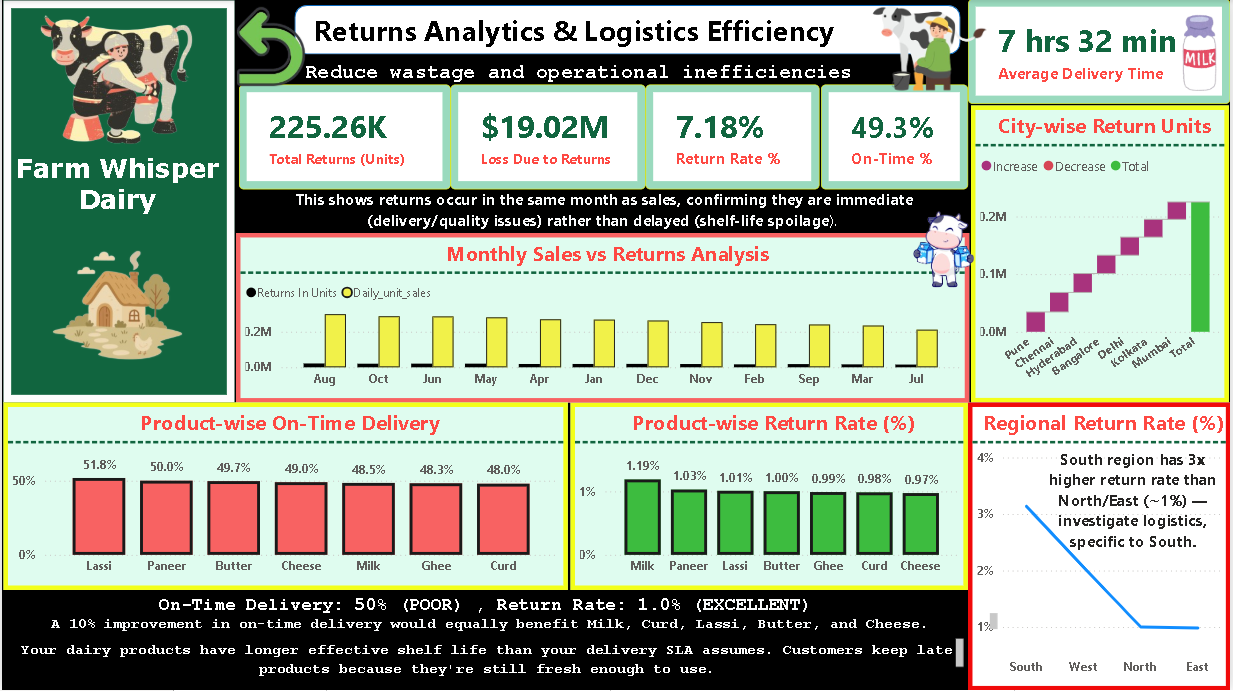

The dashboard page shown, as its layout file describes it:
{"tool":"powerbi","page":{"name":"Returns Analytics & Logistics Efficiency","canvas":[1280,720],"ordinal":3},"visuals":[{"type":"shape","box":[1.6,1.6,240.7,418.9],"z":0},{"type":"shape","box":[304.8,6.3,694,51.6],"z":1000},{"type":"textbox","box":[0,154.7,240.7,89.1],"z":2000},{"type":"image","box":[23.4,6.3,193.8,156.3],"z":3000},{"type":"textbox","box":[243.8,59.4,714.3,40.6],"z":4000},{"type":"cardVisual","fields":{"Data":["Sum(fact_sales.Return rate %)"]},"box":[670.5,89.1,181.3,109.4],"z":5000},{"type":"cardVisual","fields":{"Data":["fact_sales.Average Delivery Time"]},"box":[1006.6,0,273.5,109.4],"z":6000},{"type":"cardVisual","fields":{"Data":["Sum(fact_sales.Returns In Units)"]},"box":[247,89.1,220.4,109.4],"z":7000},{"type":"cardVisual","fields":{"Data":["fact_sales.Loss Due to Returns"]},"box":[467.3,89.1,203.2,109.4],"z":8000},{"type":"columnChart","title":"Product-wise Return Rate (%)","fields":{"Y":["Sum(fact_sales.Return rate %)"],"Category":["dim_product.product_name"]},"box":[592.4,420.4,414.2,195.4],"z":9000},{"type":"cardVisual","fields":{"Data":["fact_sales.On-Time %"]},"box":[853.4,89.1,153.2,109.4],"z":10000},{"type":"lineClusteredColumnComboChart","title":"Monthly Sales vs Returns Analysis","fields":{"Y":["Sum(fact_sales.Returns In Units)","Sum(fact_sales.daily_unit_sales)"],"Category":["dim_date.month"]},"box":[243.8,243.8,764.3,176.6],"z":11000},{"type":"columnChart","title":"Product-wise On-Time Delivery","fields":{"Y":["fact_sales.On-Time %"],"Category":["dim_product.product_name"]},"box":[1.6,420.4,587.7,195.4],"z":12000},{"type":"image","box":[165.7,0,223.5,100],"z":13000},{"type":"waterfallChart","title":"City-wise Return Units","fields":{"Category":["dim_location.city"],"Y":["Sum(fact_sales.Returns In Units)"]},"box":[1009.7,111,268.8,309.5],"z":14000},{"type":"image","box":[883.1,0,159.4,100],"z":15000},{"type":"lineChart","title":"Regional Return Rate (%)","fields":{"Category":["dim_location.region"],"Y":["Sum(fact_sales.Return rate %)"]},"box":[1006.6,420.4,273.5,300.1],"z":16000},{"type":"textbox","box":[1.6,615.8,1005,31.3],"z":17000},{"type":"textbox","box":[45.3,634.6,997.2,34.4],"z":18000},{"type":"textbox","box":[12.5,661.1,994.1,51.6],"z":19000},{"type":"textbox","box":[1076.9,462.6,203.2,137.5],"z":20000},{"type":"textbox","box":[240.7,192.2,769,57.8],"z":21000},{"type":"image","box":[1222.3,0,54.7,111],"z":22000},{"type":"image","box":[925.3,212.6,112.5,104.7],"z":23000},{"type":"image","box":[31.3,243.8,176.6,140.7],"z":24000}]}

Visuals, with their boxes in screenshot pixels (x1, y1, x2, y2), scaled from the page's 1280x720 canvas onto the 1233x691 screenshot:
shape: 2/2/233/404
shape: 294/6/962/56
textbox: 0/148/232/234
image: 23/6/209/156
textbox: 235/57/923/96
cardVisual - Sum(fact_sales.Return rate %): 646/86/821/191
cardVisual - fact_sales.Average Delivery Time: 970/0/1232/105
cardVisual - Sum(fact_sales.Returns In Units): 238/86/450/191
cardVisual - fact_sales.Loss Due to Returns: 450/86/646/191
"Product-wise Return Rate (%)" columnChart: 571/403/970/591
cardVisual - fact_sales.On-Time %: 822/86/970/191
"Monthly Sales vs Returns Analysis" lineClusteredColumnComboChart: 235/234/971/403
"Product-wise On-Time Delivery" columnChart: 2/403/568/591
image: 160/0/375/96
"City-wise Return Units" waterfallChart: 973/107/1232/404
image: 851/0/1004/96
"Regional Return Rate (%)" lineChart: 970/403/1232/690
textbox: 2/591/970/621
textbox: 44/609/1004/642
textbox: 12/634/970/684
textbox: 1037/444/1232/576
textbox: 232/184/973/240
image: 1177/0/1230/107
image: 891/204/1000/305
image: 30/234/200/369
